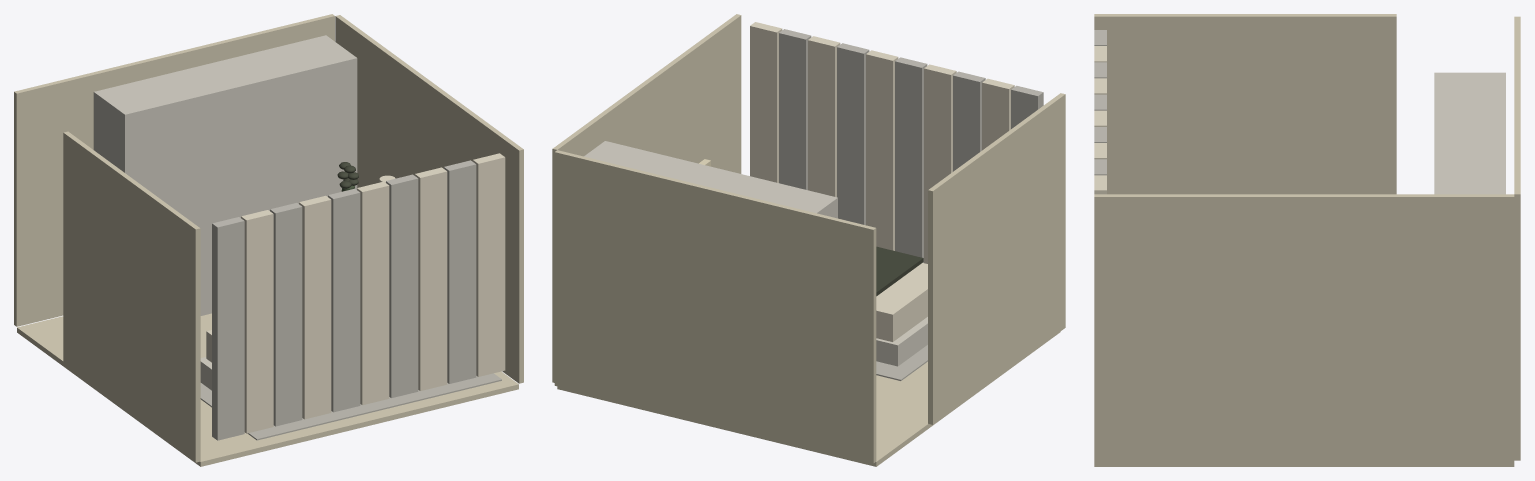
The model's file is room-proxy.glb.
3 views of the same model, side by side, from view 1: azimuth 30°, elevation 25°; view 2: azimuth 150°, elevation 25°; view 3: azimuth 270°, elevation 25° (orthographic). The views are drawn at different scales.
Parts seen in each view (by area): view 1: REF-L03-R01-wardrobe-part-1, proxy-left-wall-after-entry, proxy-back-wall, proxy-right-wall, proxy-floor, REF-L03-R01-curtain-part-1, REF-L03-R01-curtain-part-10, REF-L03-R01-curtain-part-9, REF-L03-R01-curtain-part-5, REF-L03-R01-curtain-part-6, REF-L03-R01-curtain-part-7, REF-L03-R01-curtain-part-2 (+4 smaller); view 2: proxy-back-wall, proxy-left-wall-after-entry, proxy-right-wall, REF-L03-R01-curtain-part-5, REF-L03-R01-curtain-part-6, REF-L03-R01-wardrobe-part-1, proxy-floor, REF-L03-R01-curtain-part-7, REF-L03-R01-curtain-part-8, REF-L03-R01-curtain-part-10, REF-L03-R01-curtain-part-9, REF-L03-R01-curtain-part-4 (+7 smaller); view 3: proxy-right-wall, proxy-left-wall-after-entry, REF-L03-R01-wardrobe-part-1, proxy-back-wall, proxy-floor.
Boxes of the visible parts, box(x1,y1,x2,y2) form: REF-L03-R01-wardrobe-part-1: box(93, 35, 357, 315); proxy-left-wall-after-entry: box(63, 131, 200, 462); proxy-back-wall: box(14, 14, 334, 326); proxy-right-wall: box(335, 15, 523, 383); proxy-floor: box(17, 313, 518, 466); REF-L03-R01-curtain-part-1: box(212, 217, 244, 440); REF-L03-R01-curtain-part-10: box(472, 153, 505, 376); REF-L03-R01-curtain-part-9: box(444, 160, 476, 383); REF-L03-R01-curtain-part-5: box(328, 188, 360, 412); REF-L03-R01-curtain-part-6: box(357, 181, 389, 405); REF-L03-R01-curtain-part-7: box(386, 174, 418, 398); REF-L03-R01-curtain-part-2: box(241, 210, 273, 433); proxy-back-wall: box(554, 150, 876, 463); proxy-left-wall-after-entry: box(928, 93, 1065, 424); proxy-right-wall: box(552, 14, 741, 382); REF-L03-R01-curtain-part-5: box(895, 57, 927, 262); REF-L03-R01-curtain-part-6: box(866, 50, 898, 250); REF-L03-R01-wardrobe-part-1: box(584, 141, 837, 218); proxy-floor: box(557, 331, 1060, 466); REF-L03-R01-curtain-part-7: box(837, 43, 869, 225); REF-L03-R01-curtain-part-8: box(808, 36, 840, 197); REF-L03-R01-curtain-part-10: box(750, 22, 782, 182); REF-L03-R01-curtain-part-9: box(779, 29, 811, 190); REF-L03-R01-curtain-part-4: box(924, 64, 956, 263); proxy-right-wall: box(1094, 194, 1514, 463); proxy-left-wall-after-entry: box(1094, 14, 1396, 194); REF-L03-R01-wardrobe-part-1: box(1434, 72, 1505, 194); proxy-back-wall: box(1514, 16, 1520, 460); proxy-floor: box(1094, 463, 1514, 466).
Size of the model in its own units: 1.03 by 0.7165 by 1.02.
